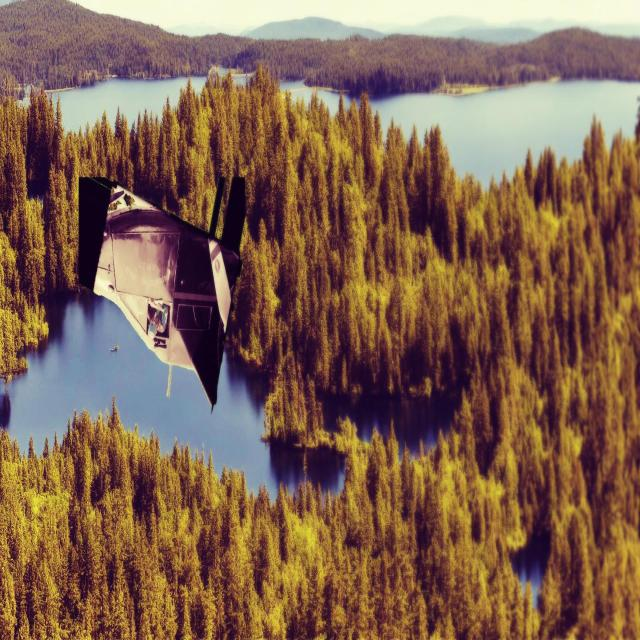airplane: (77, 171, 246, 414)
